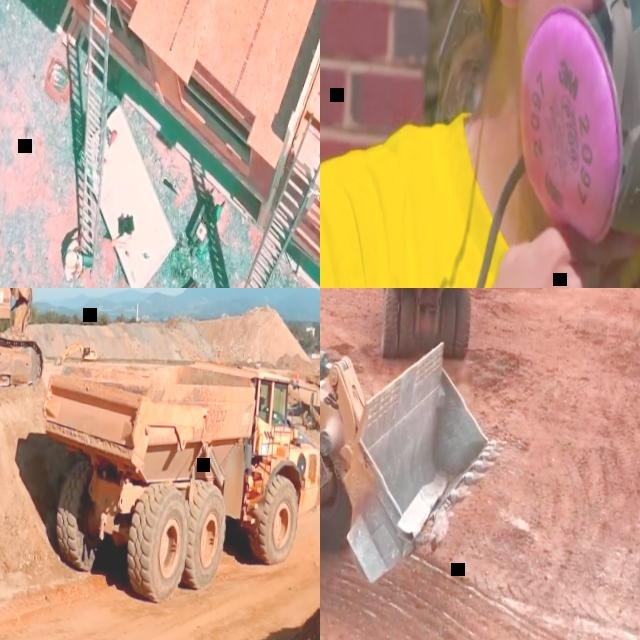Hardhat: (64, 251, 77, 268)
Mask: (509, 0, 640, 287)
NO-Safety Vest: (330, 104, 640, 288), (297, 374, 299, 381)
Person: (320, 0, 640, 288), (64, 231, 84, 284), (258, 387, 268, 415), (296, 372, 300, 386)
machinery: (31, 352, 320, 611), (320, 288, 500, 631), (373, 288, 486, 372), (58, 342, 97, 363)
